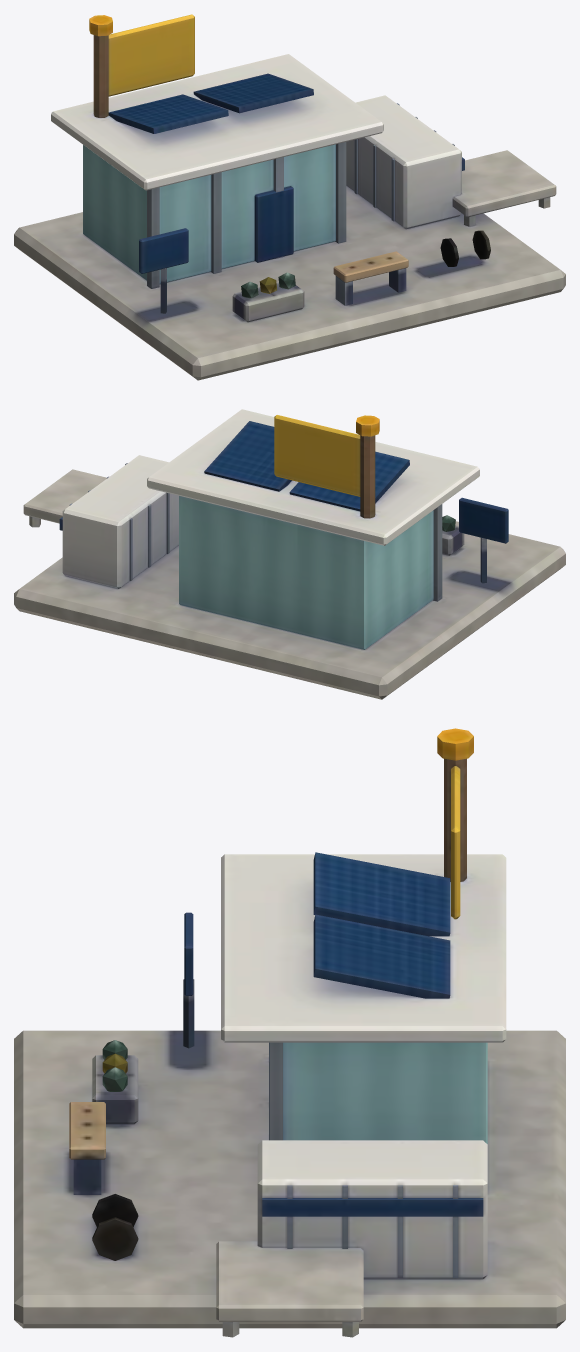
The model's file is fishery-25.glb.
3 renders of one model, top to bottom at view 1: azimuth 30°, elevation 25°; view 2: azimuth 150°, elevation 25°; view 3: azimuth 270°, elevation 25°, orthographic. The views are drawn at different scales.
Visible parts, largest first — view 1: fishery-25; view 2: fishery-25; view 3: fishery-25.
Boxes of the visible parts, x1=… form: fishery-25: x1=14, y1=14, x2=565, y2=380; fishery-25: x1=14, y1=409, x2=565, y2=699; fishery-25: x1=14, y1=728, x2=565, y2=1337.
Bounding box in the file's own units: 1.61 × 0.87 × 1.2.
1 material, 1 textured.
